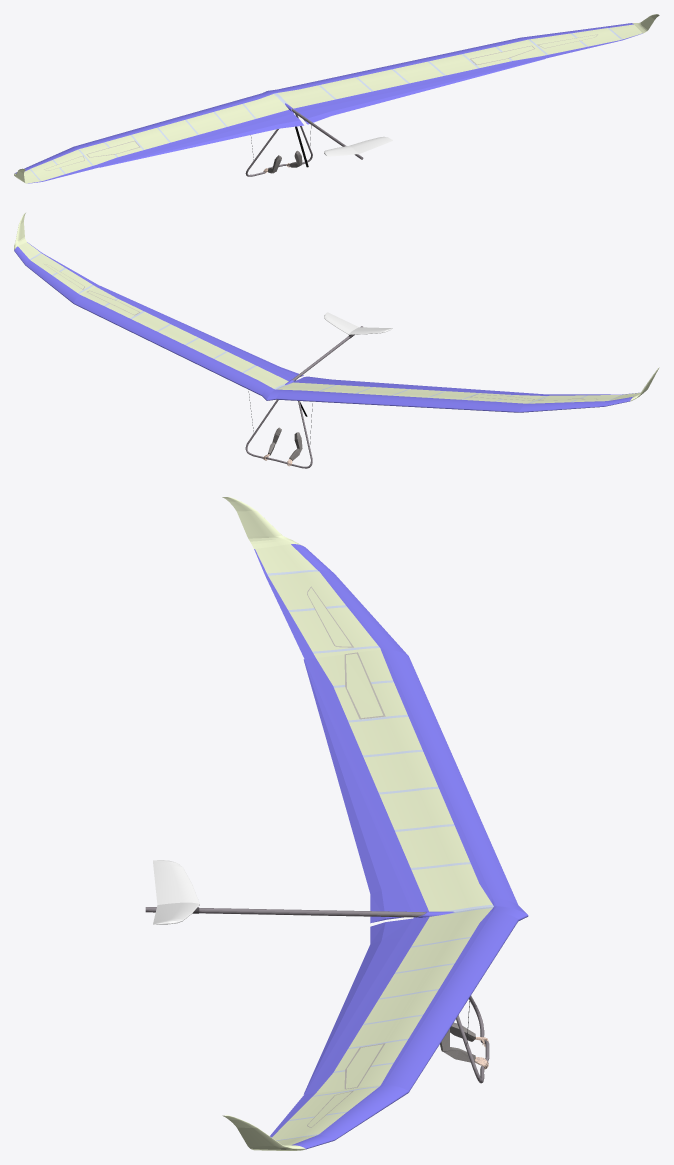
The model's file is Hangliderman.dae.
The picture shows the model from 3 angles, top to bottom: view 1: azimuth 30°, elevation 25°; view 2: azimuth 150°, elevation 25°; view 3: azimuth 270°, elevation 25°; orthographic projection. The views are drawn at different scales.
Parts seen in each view (by area): view 1: Agrupar_8 (×18), group_16 (×2), group_14 (×2), group_12 (×2), group_18 (×2), group_2 (×2); view 2: group_12 (×2), group_14 (×2), Agrupar_8 (×4), group_16 (×2); view 3: Agrupar_8 (×17), group_12 (×2), group_14 (×2), group_16 (×2), group_13 (×2), group_2, group_1, group_18.
Part boxes in pixels (x1,y1,x2,y2): Agrupar_8 (×18): (53,24,642,173); group_16 (×2): (100,58,545,167); group_14 (×2): (28,33,642,183); group_12 (×2): (15,23,633,173); group_18 (×2): (87,46,533,157); group_2 (×2): (324,136,392,156); group_12 (×2): (14,246,633,412); group_14 (×2): (27,242,638,395); Agrupar_8 (×4): (158,324,288,388); group_16 (×2): (101,286,542,394); Agrupar_8 (×17): (255,544,492,1119); group_12 (×2): (291,544,518,1149); group_14 (×2): (254,549,429,1137); group_16 (×2): (303,659,412,1094); group_13 (×2): (222,497,305,1150); group_2: (153,860,199,904); group_1: (145,907,426,917); group_18: (346,653,383,717).
Bounding box in the file's own units: 158 × 41.23 × 29.9.
